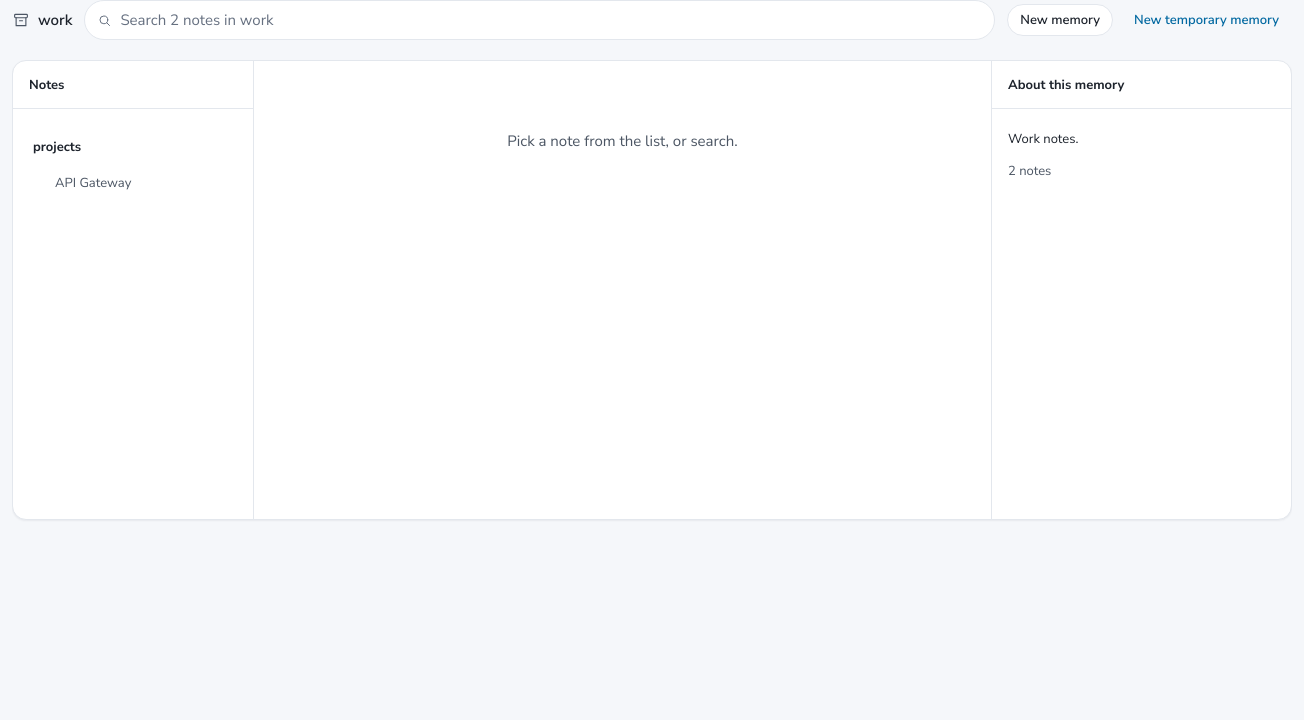
Memories › Browse › shows history as who saved it and when, with the commit only in the tooltip
Click the button "API Gateway". click: (133, 183)
box: top-left (25, 165), bottom-right (241, 201)
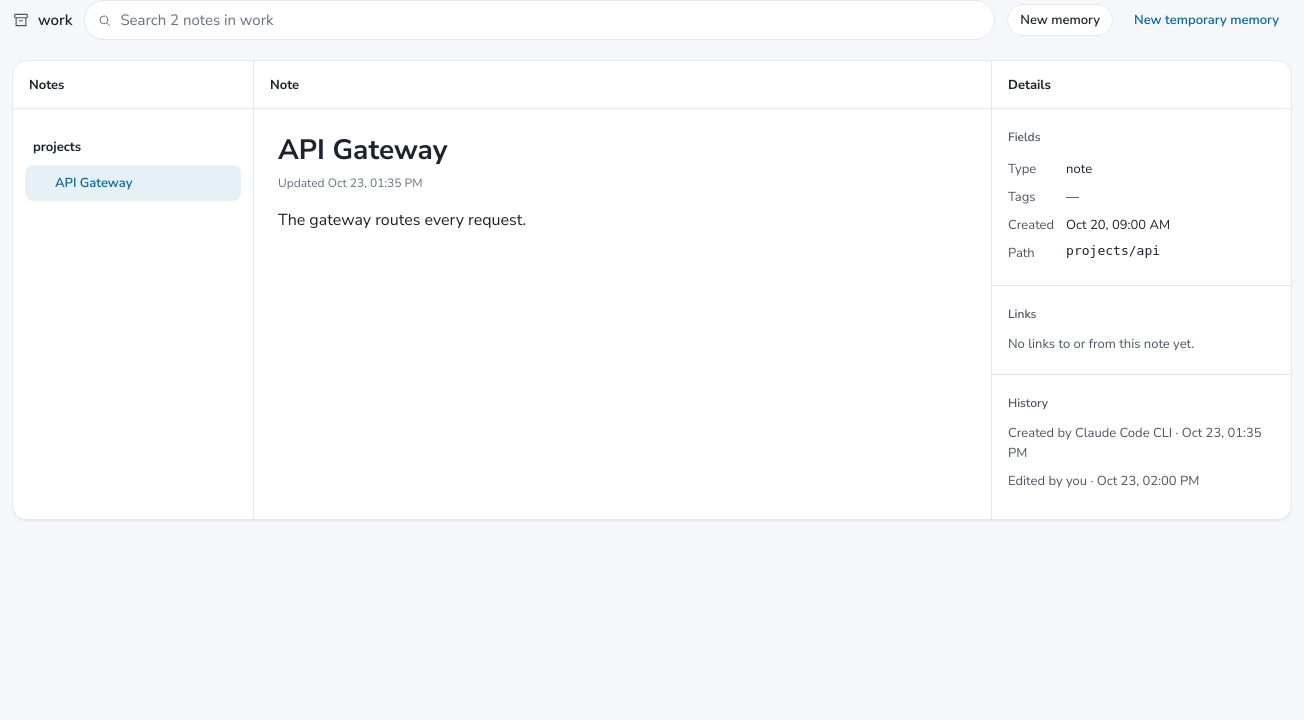
Check: the list item "Edited by you · Oct 23, 02:00 PM" is shown, box top-left (1008, 472), bottom-right (1199, 490)
